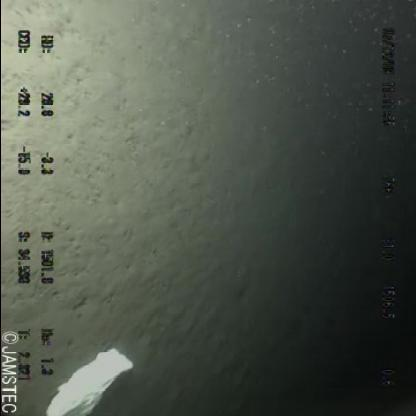Rác: (38, 340, 138, 416)
